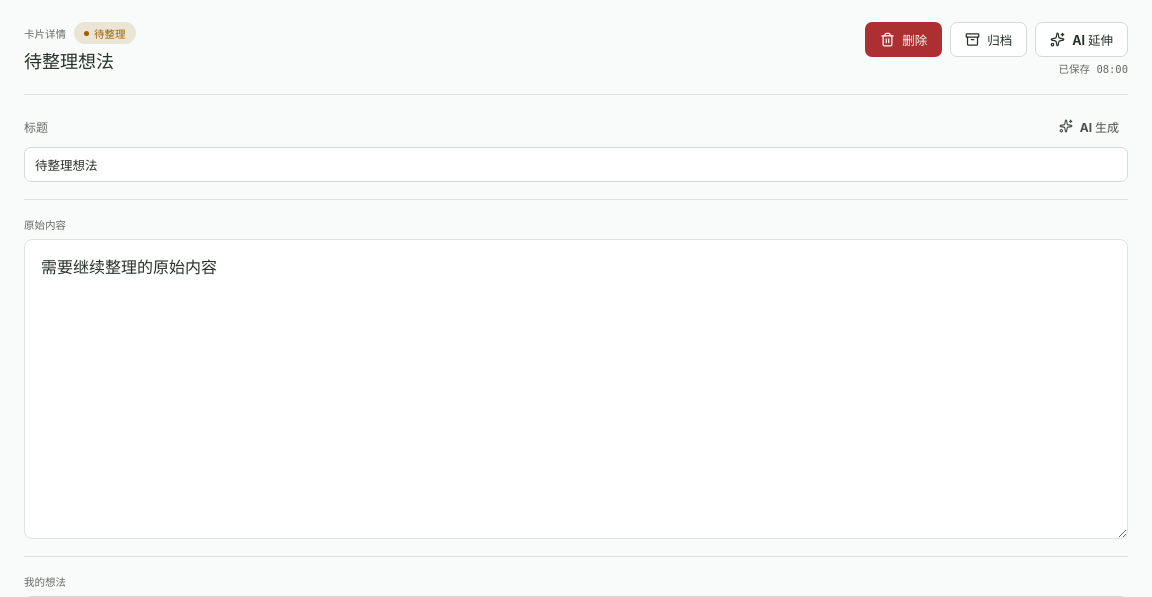
Test case: manual AI title generation › retains the title and allows retry after a model failure
What coordinates should you click on to do the following:
click the button "AI 生成"
I would click on:
 (1089, 126)
Its box is [1050,112,1128,140].
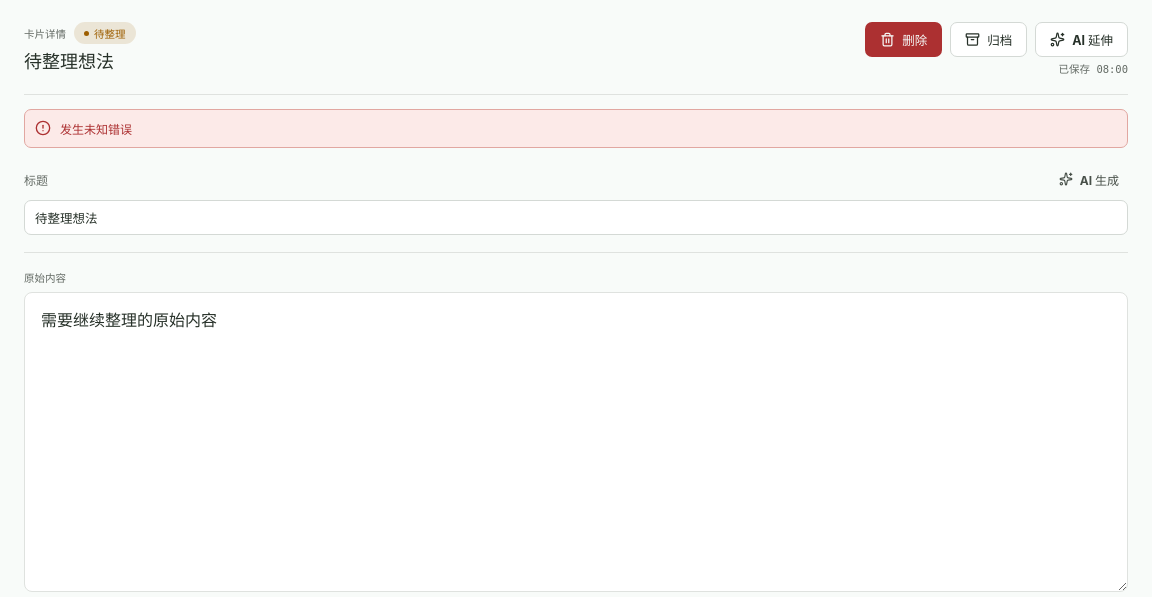
Expected: the field named "标题" holds "待整理想法", [24,200,1128,235]
Expected: the message "发生未知错误" is shown, [24,109,1128,148]
